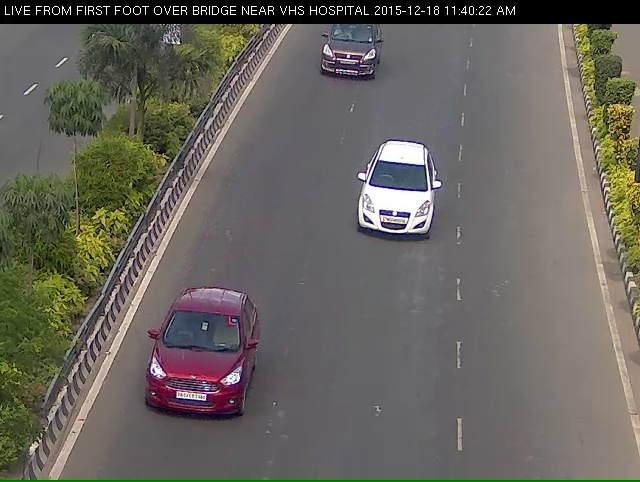Car: (139, 320, 246, 456), (347, 158, 438, 267), (315, 22, 382, 91)
